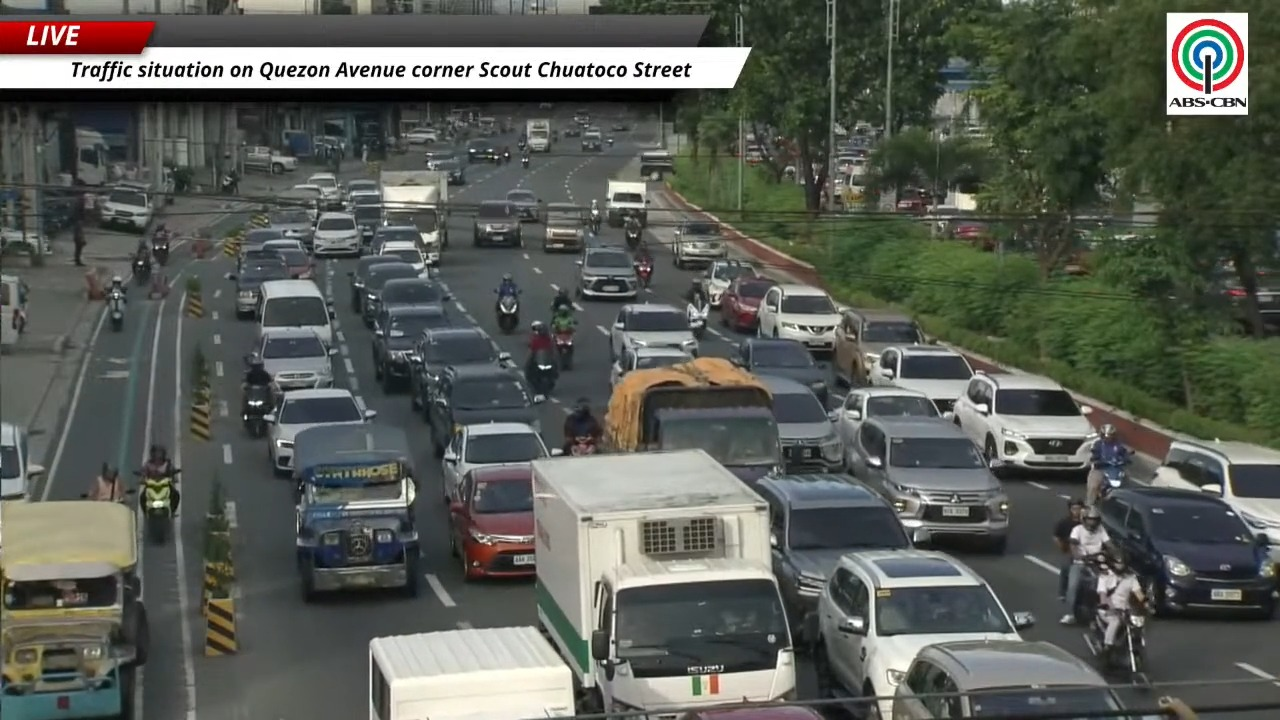car: (813, 549, 1034, 716), (753, 473, 912, 634), (1098, 484, 1276, 618), (848, 416, 1008, 553), (891, 640, 1135, 719), (1152, 439, 1279, 563), (952, 371, 1097, 473), (426, 364, 539, 455), (449, 465, 535, 580), (264, 388, 375, 474), (410, 327, 512, 419), (442, 422, 552, 502), (757, 375, 844, 471), (836, 387, 940, 465), (869, 345, 974, 413), (371, 304, 452, 392), (833, 309, 926, 385), (731, 337, 829, 406), (757, 284, 840, 351), (257, 327, 336, 391), (610, 303, 698, 359), (361, 261, 419, 327), (227, 256, 288, 318), (0, 422, 44, 500), (575, 245, 639, 298), (347, 255, 406, 312), (610, 347, 693, 385), (719, 277, 776, 331), (701, 259, 757, 308), (672, 220, 727, 268), (99, 185, 154, 232), (378, 277, 452, 310), (473, 200, 523, 247), (678, 703, 823, 719), (312, 212, 361, 256), (542, 203, 585, 251), (276, 183, 327, 218), (264, 243, 313, 279), (267, 207, 313, 245), (378, 240, 427, 275), (1255, 267, 1279, 332), (368, 224, 420, 254), (240, 227, 299, 252), (350, 202, 382, 245), (427, 149, 465, 185), (304, 173, 341, 208), (505, 189, 541, 222), (237, 248, 286, 270), (639, 150, 674, 179), (344, 178, 380, 203), (467, 138, 500, 163), (345, 189, 382, 211), (424, 143, 455, 169), (402, 127, 438, 144), (580, 127, 603, 151), (261, 238, 304, 250), (574, 108, 590, 126), (563, 123, 581, 137), (611, 121, 626, 131)
motorcycle: (1084, 606, 1147, 685), (135, 468, 180, 544), (1071, 556, 1104, 626), (242, 385, 272, 438), (526, 349, 558, 396), (1098, 462, 1127, 498), (496, 295, 519, 334), (554, 330, 574, 370), (686, 303, 708, 339), (107, 290, 125, 331), (132, 253, 151, 285), (152, 235, 170, 266), (635, 259, 653, 289), (569, 435, 596, 455), (624, 225, 642, 250), (220, 173, 238, 194), (588, 210, 600, 234), (521, 155, 529, 168), (517, 140, 525, 151), (502, 151, 510, 162), (606, 137, 612, 145)
truck: (532, 450, 794, 716), (603, 357, 782, 482), (369, 627, 574, 719), (379, 170, 448, 266), (606, 180, 649, 227), (75, 127, 109, 186), (241, 146, 297, 174), (526, 119, 551, 152)
